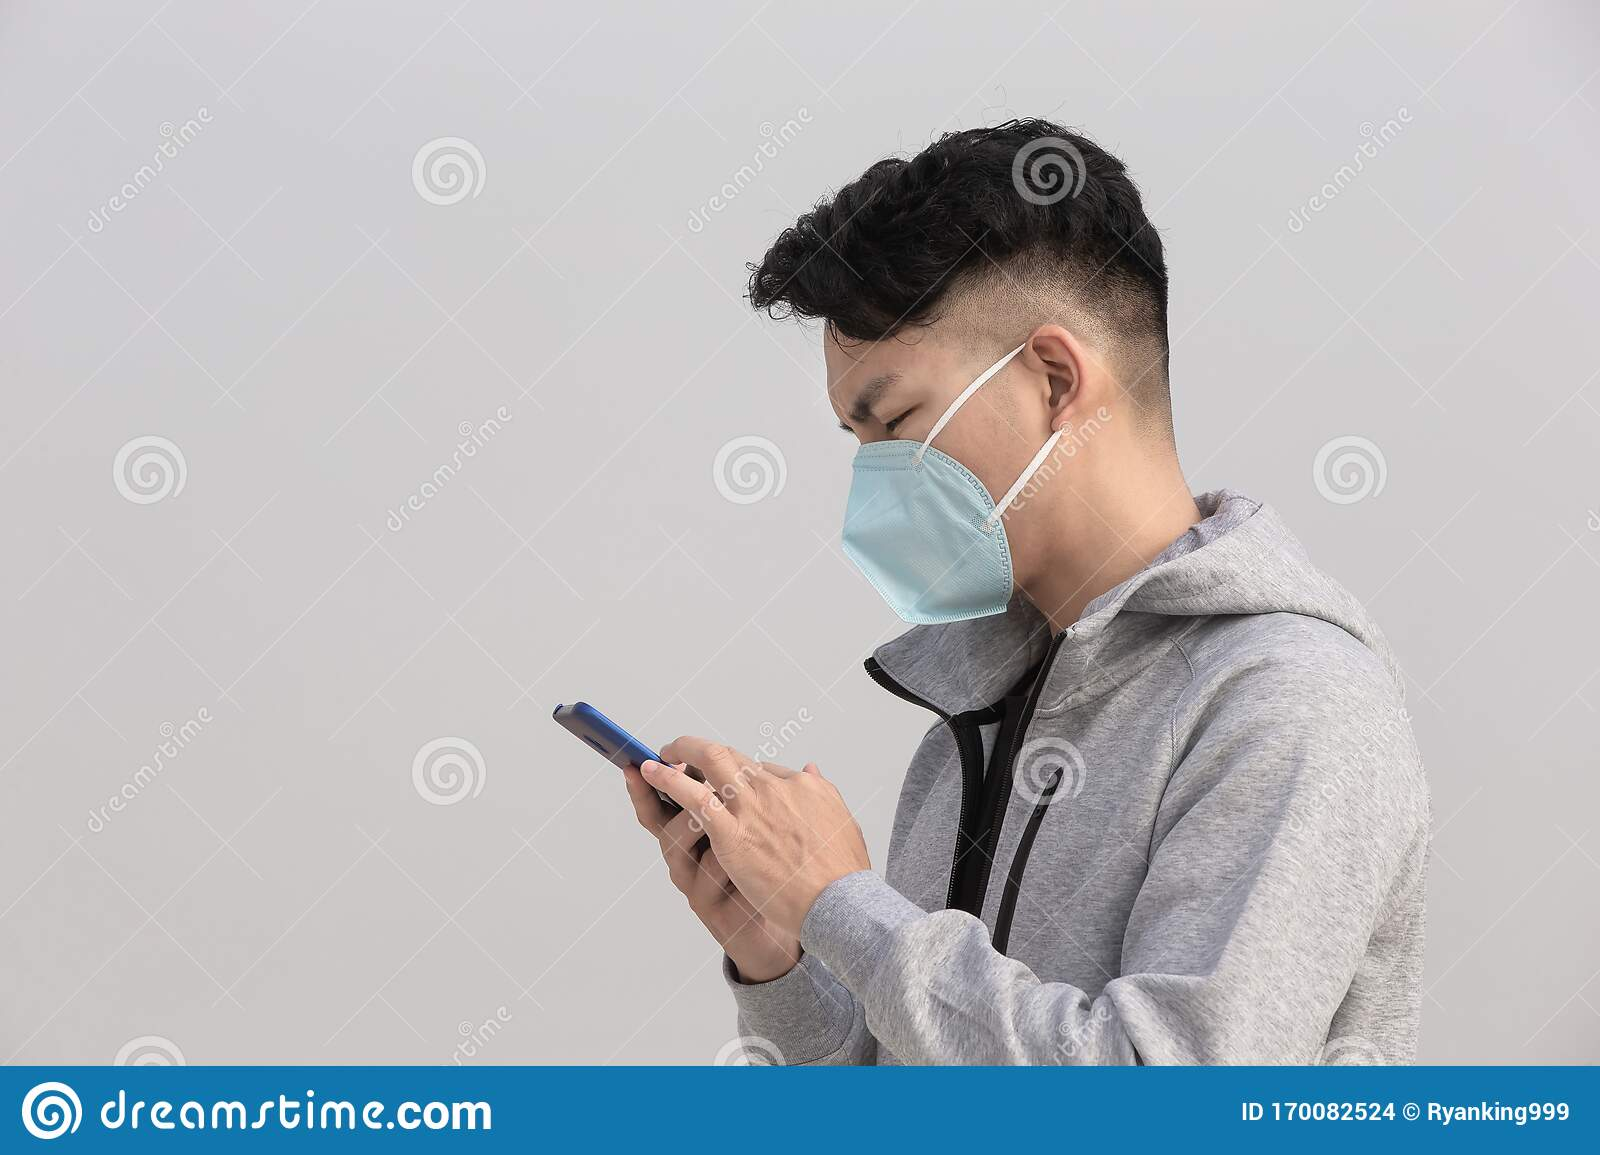with_mask: (786, 207, 1142, 631)
